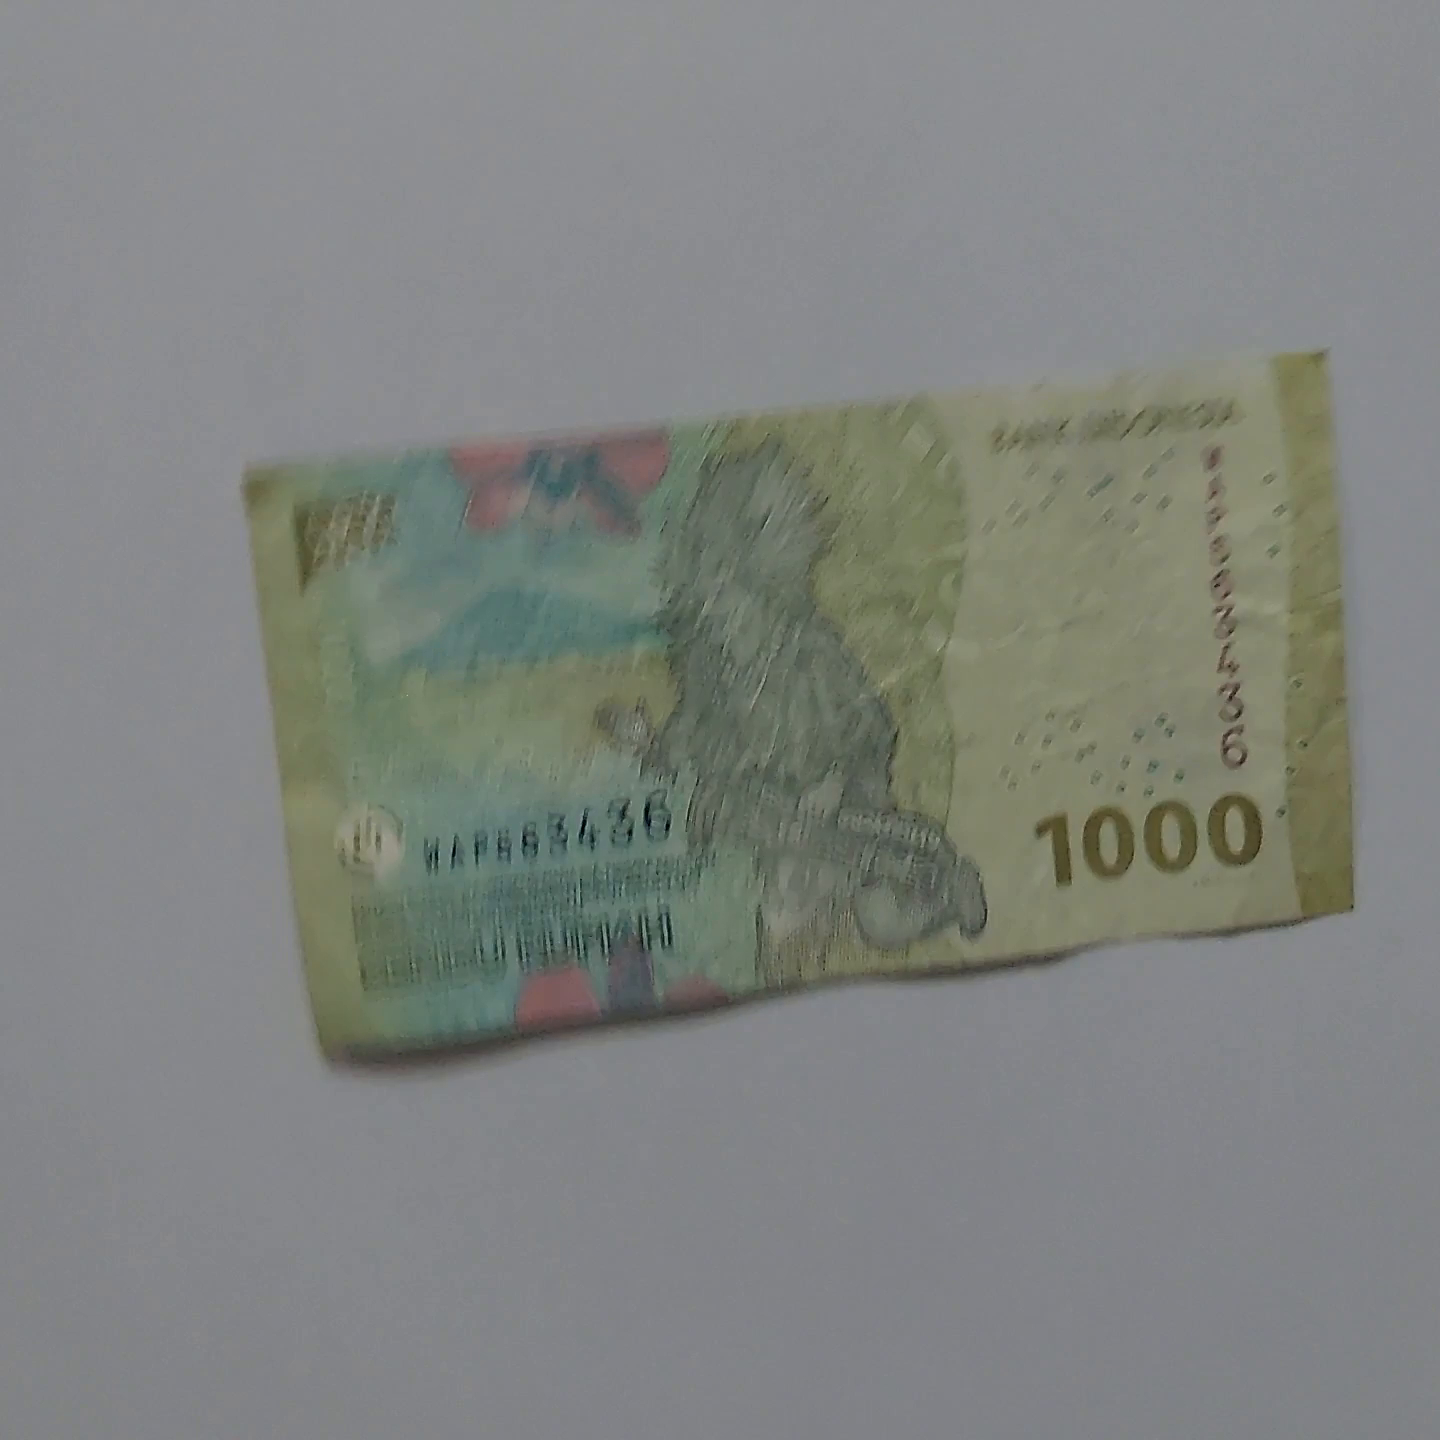1k: (215, 485, 1345, 1046)
